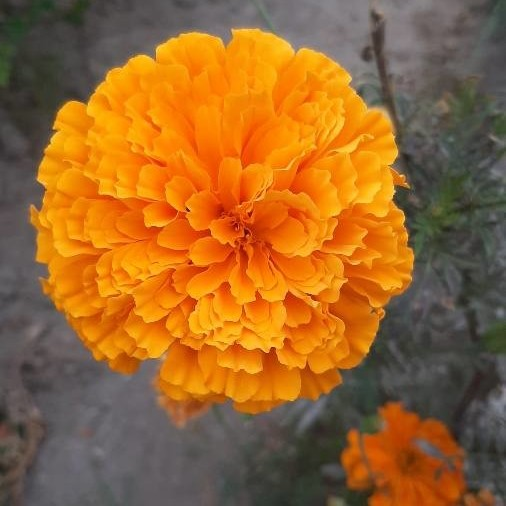obstacle: (26, 21, 432, 429)
